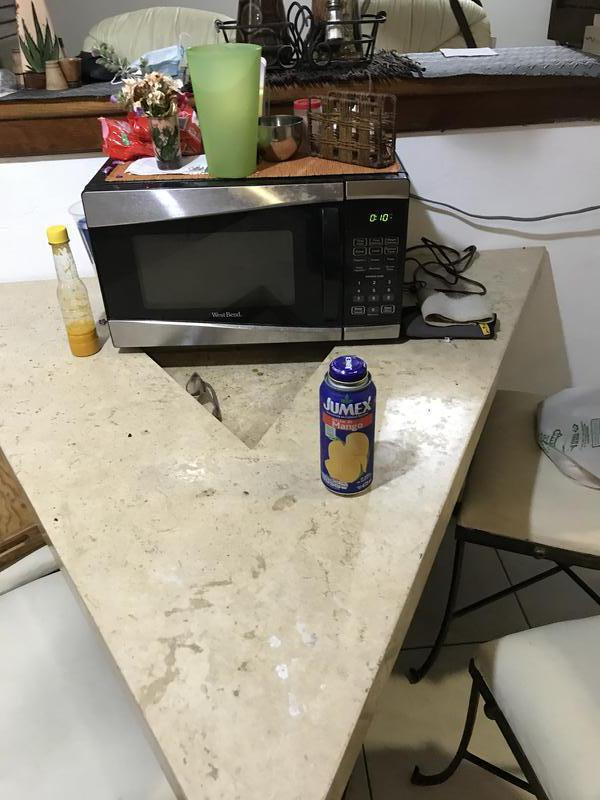jugo_jumex: (319, 355, 379, 498)
